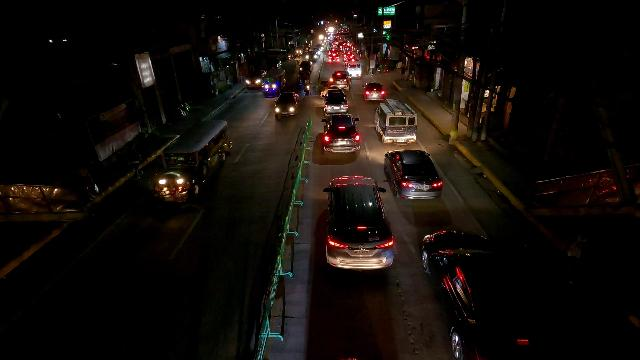car: (417, 228, 548, 360), (322, 171, 398, 277), (383, 147, 443, 202), (320, 113, 362, 155), (323, 89, 350, 116), (273, 92, 299, 118), (327, 70, 351, 91), (362, 82, 387, 102), (245, 72, 264, 90), (342, 48, 355, 63), (299, 60, 312, 73), (306, 49, 317, 62), (328, 48, 340, 57), (328, 57, 340, 64), (315, 47, 321, 57)
jeepney: (152, 118, 233, 203), (263, 69, 287, 98)
motorcycle: (303, 79, 312, 97)
van: (373, 99, 418, 146), (346, 60, 363, 78)
